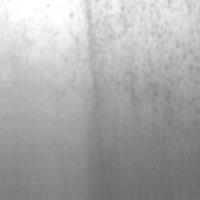pitted_surface: (80, 0, 199, 170)
